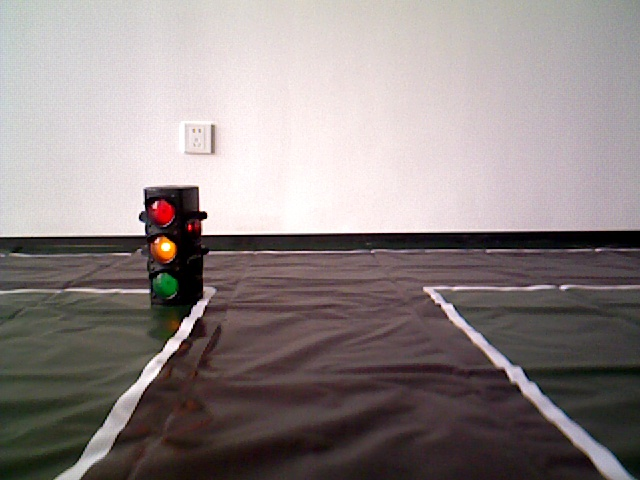yellow: (143, 183, 202, 305)
